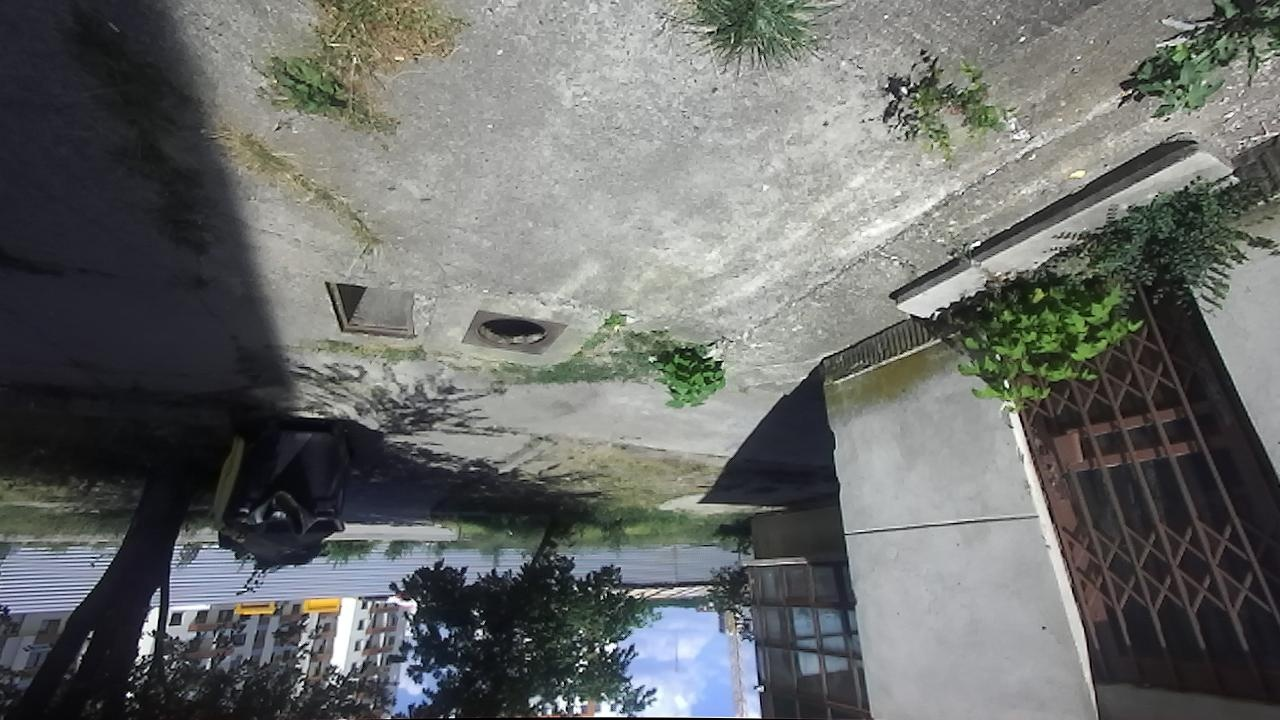drain: (317, 278, 418, 341), (472, 315, 557, 350)
